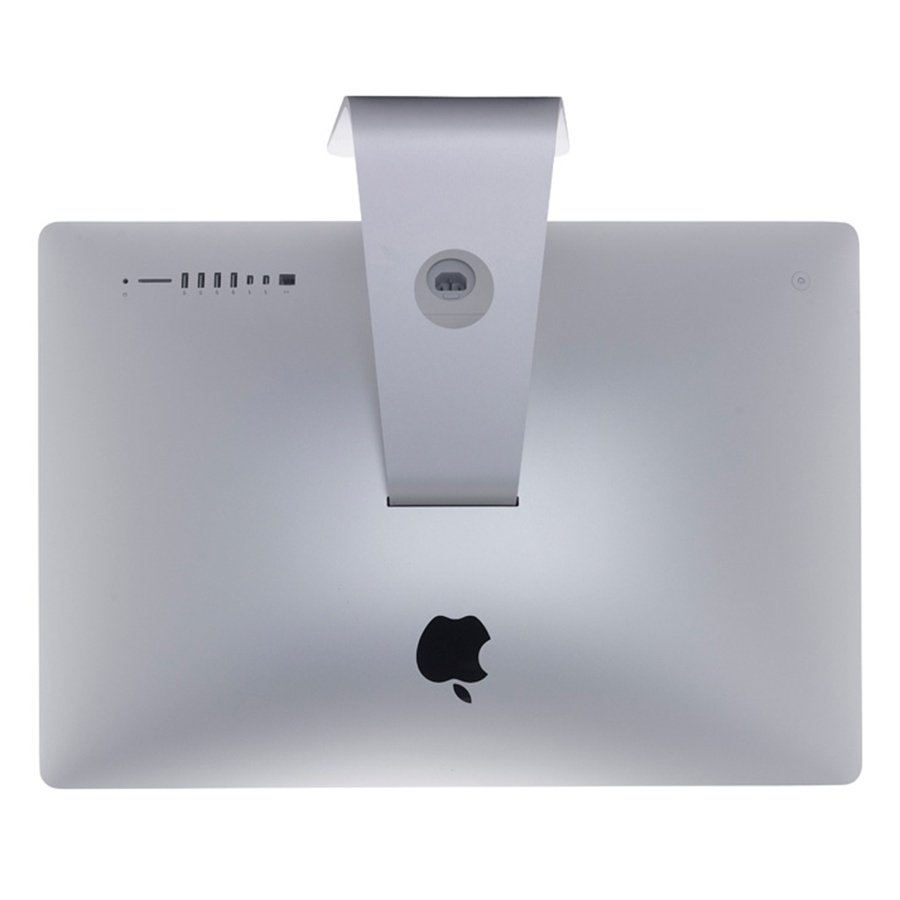Apple: (346, 567, 608, 702)
